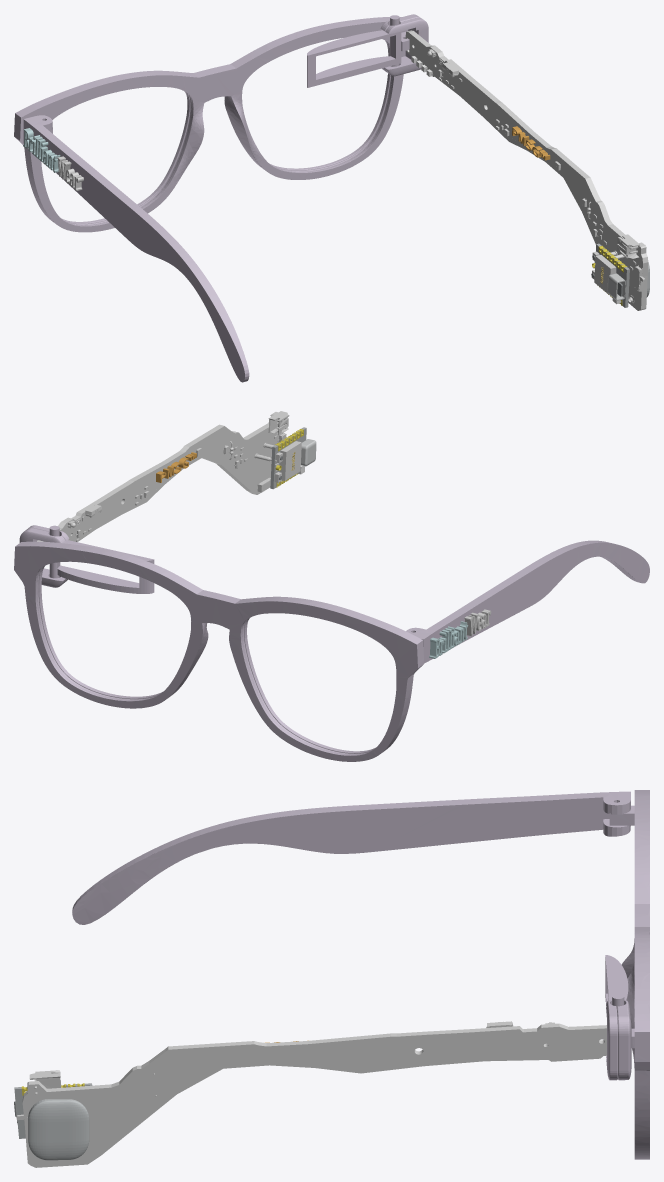
File: glasses.glb
3 renders of one model, top to bottom at view 1: azimuth 30°, elevation 25°; view 2: azimuth 150°, elevation 25°; view 3: azimuth 270°, elevation 25°, orthographic. The views are drawn at different scales.
Visible parts, largest first — view 1: glasses; view 2: glasses; view 3: glasses.
Part boxes in pixels (<box>): glasses: <box>14,14,649,382</box>; glasses: <box>14,411,649,761</box>; glasses: <box>14,790,649,1167</box>.
Bounding box in the file's own units: 0.143 × 0.0505 × 0.1552.
